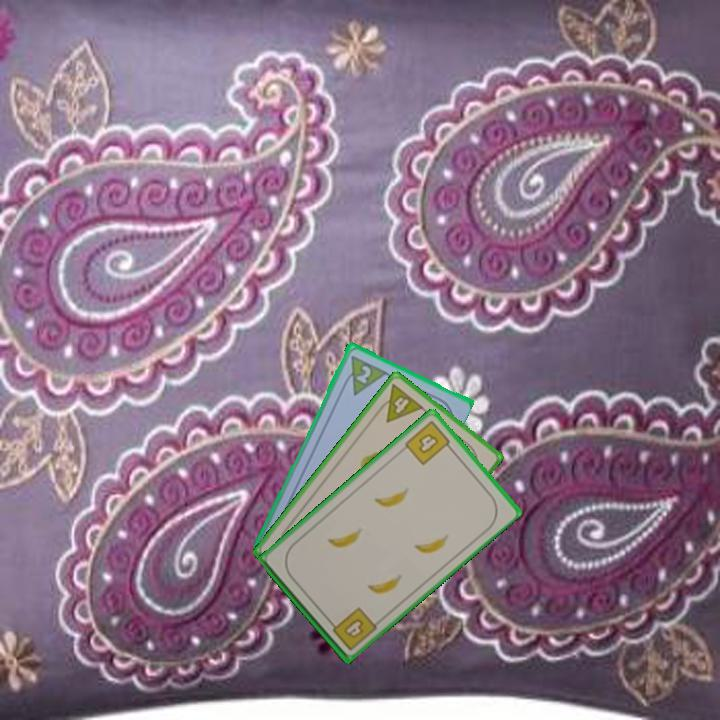2p: (338, 351, 388, 398)
4b: (401, 417, 456, 468), (325, 603, 380, 653)
4p: (372, 380, 427, 425)
